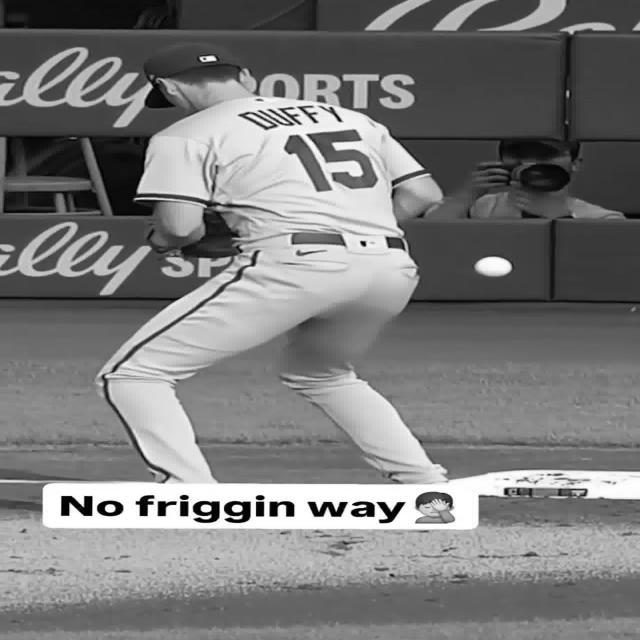base: (449, 470, 640, 500)
baseball: (473, 256, 513, 278)
baseball_glove: (182, 211, 240, 259)
